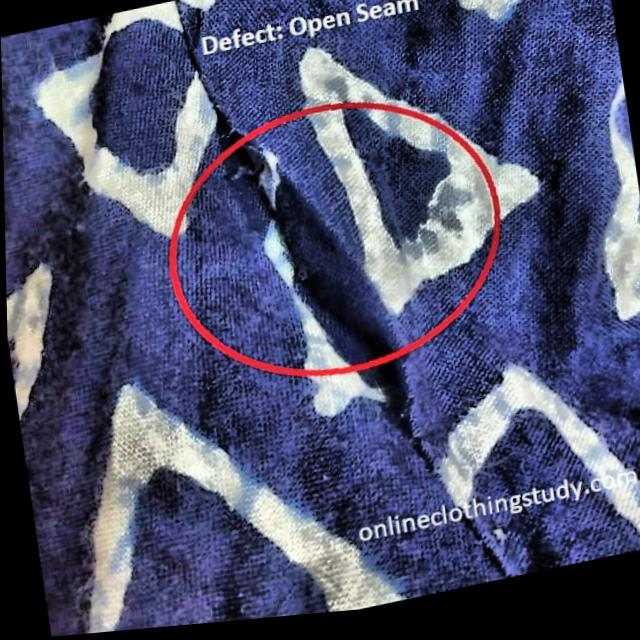seam: (195, 49, 497, 541)
